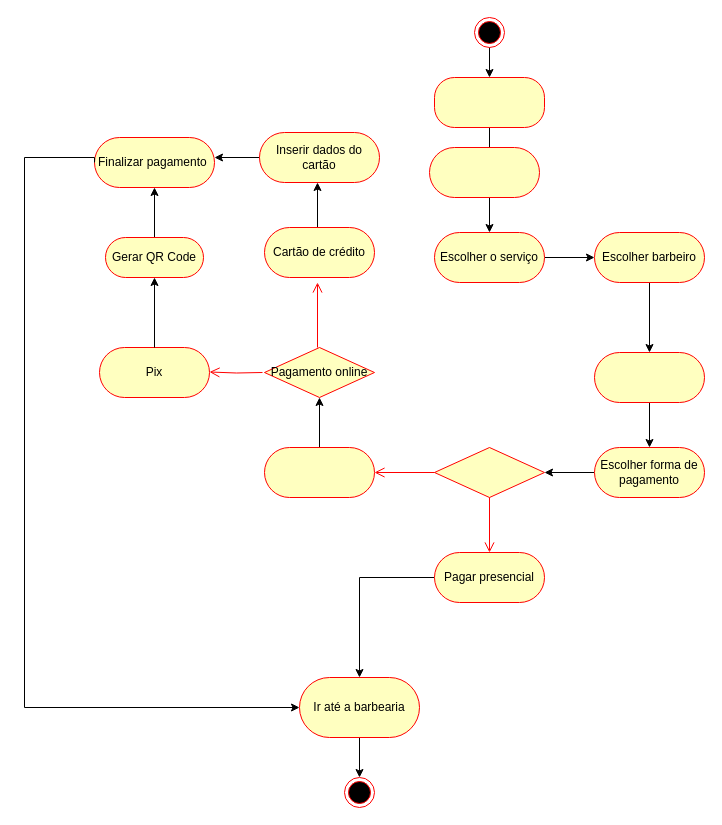
Image size: 722x825. Some labels were removed from this diagram. The centre of each missing label's shape, as x and y in pixels:
"Agendar horário" belongs at point (649, 377).
"Efetuar cadastro" belongs at point (489, 102).
"Efetuar login" belongs at point (484, 172).
"Pagar online" belongs at point (319, 472).
"Sistema de pagamento" belongs at point (489, 472).
